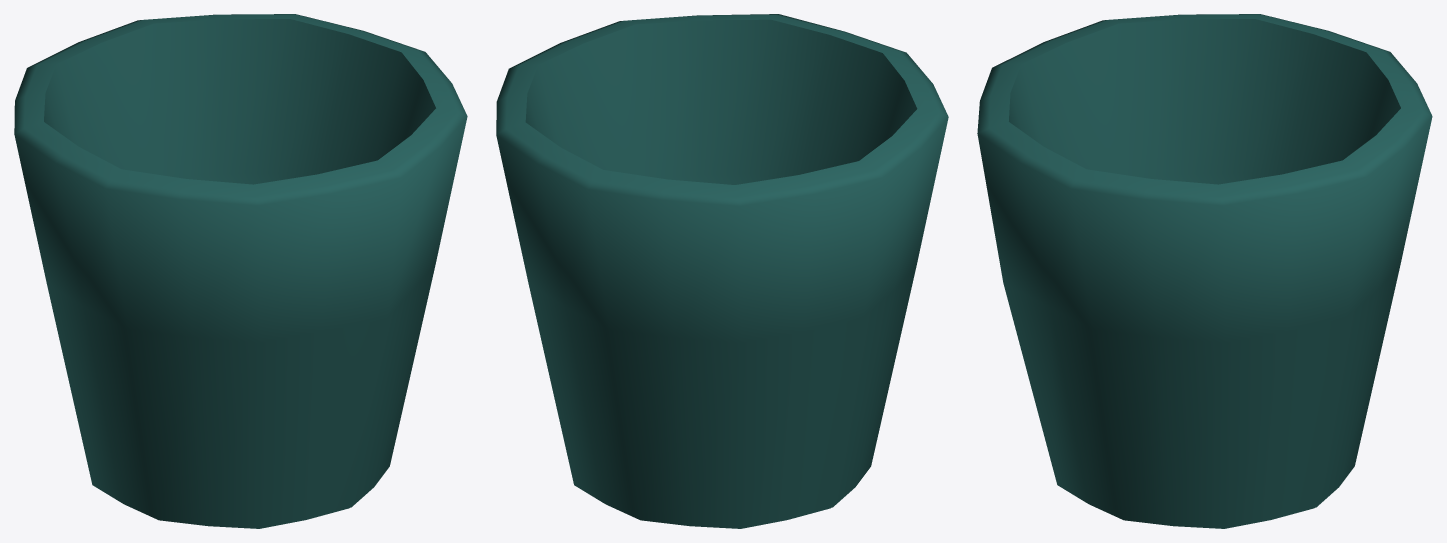
The model's file is trashcan.fbx.
3 views of the same model, side by side, from view 1: azimuth 30°, elevation 25°; view 2: azimuth 150°, elevation 25°; view 3: azimuth 270°, elevation 25° (orthographic).
Visible parts, largest first — view 1: Cylinder; view 2: Cylinder; view 3: Cylinder.
Boxes of the visible parts, bbox=[...] form: Cylinder: bbox=[14, 14, 467, 528]; Cylinder: bbox=[496, 14, 948, 528]; Cylinder: bbox=[977, 14, 1432, 528].
Bounding box in the file's own units: 139 × 125 × 140.
